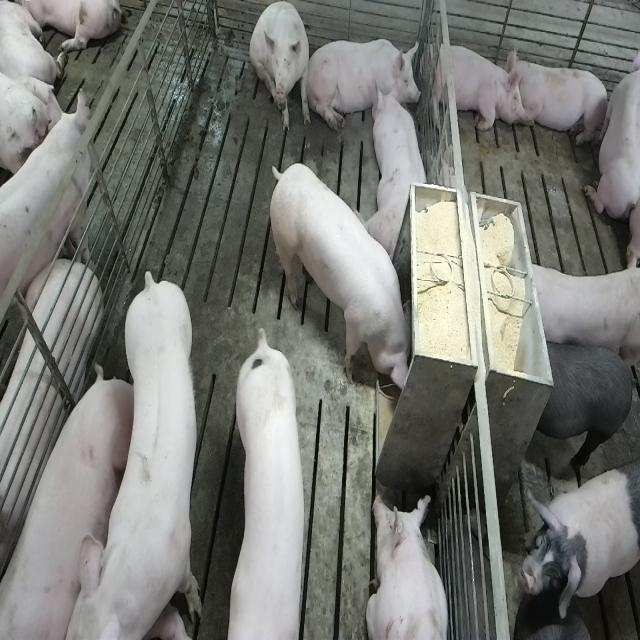Feeding: (265, 161, 411, 393)
Lateral_lying: (0, 370, 130, 640), (0, 261, 102, 592)
Sitting: (250, 1, 311, 134)
Standing: (71, 265, 204, 637), (227, 321, 312, 636), (0, 91, 91, 338), (518, 465, 638, 622), (528, 338, 636, 481), (521, 256, 637, 370)
Sternal_lying: (367, 490, 450, 640), (370, 84, 431, 264), (311, 32, 417, 131), (509, 52, 611, 150), (585, 36, 637, 225), (426, 36, 522, 135)
